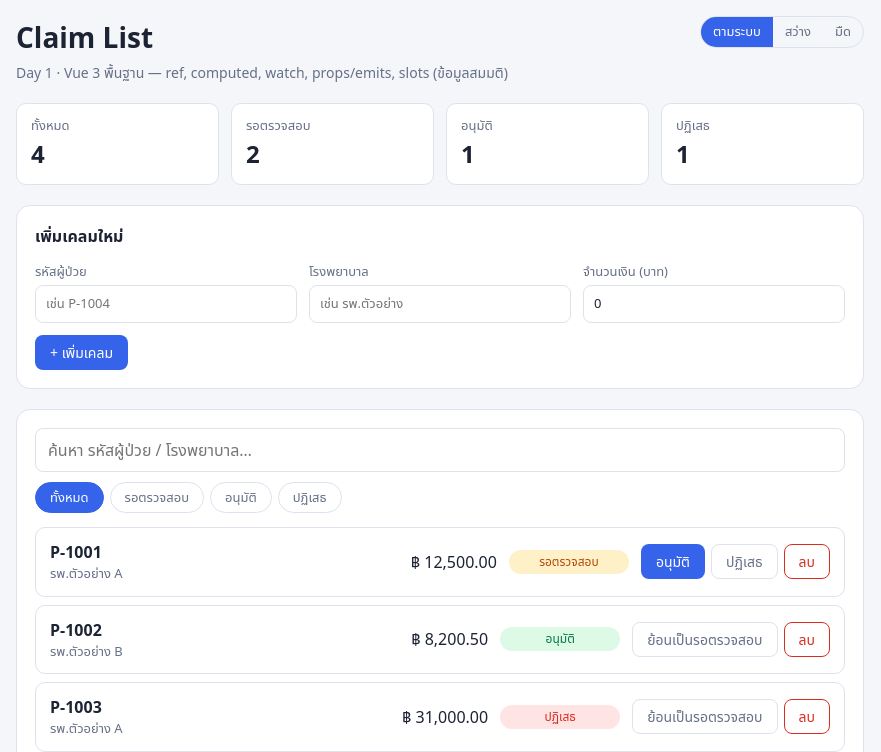
Test: App (integration) › ค้นหาตามโรงพยาบาล
Type "รพ.ตัวอย่าง A" into the search field with placeholder "ค้นหา รหัสผู้ป่วย / โรงพยาบาล…" at (440, 450), box [35,428,845,472]
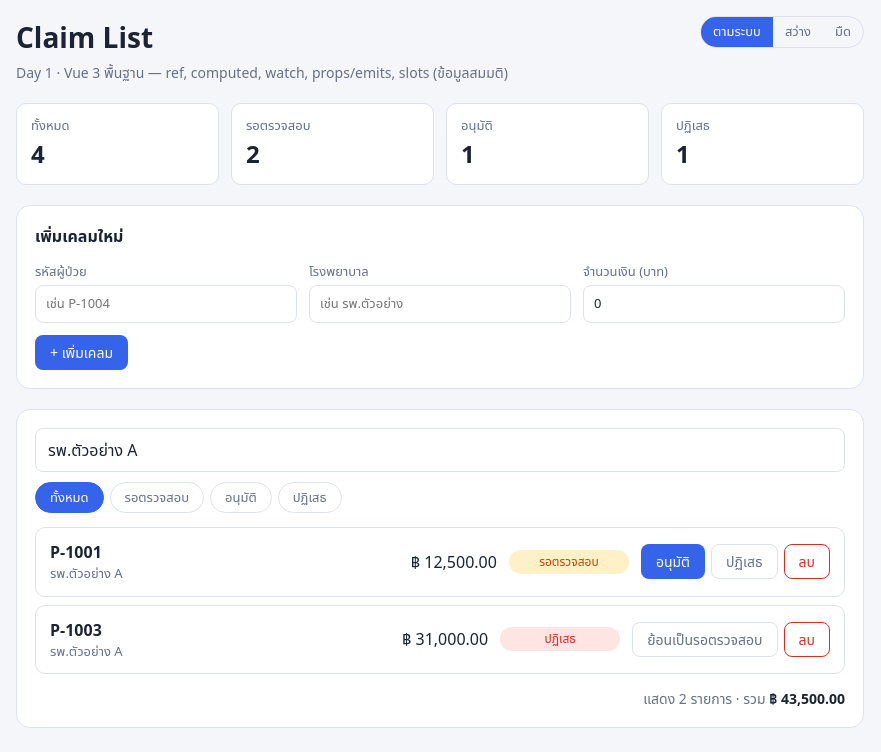
Expected: the number of list items is 2, [35,527,845,596]; [35,604,845,674]
